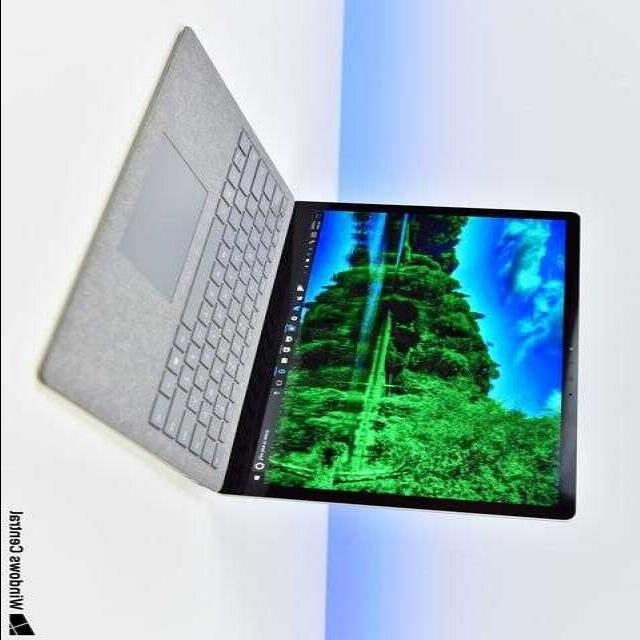laptop: (145, 212, 575, 453)
